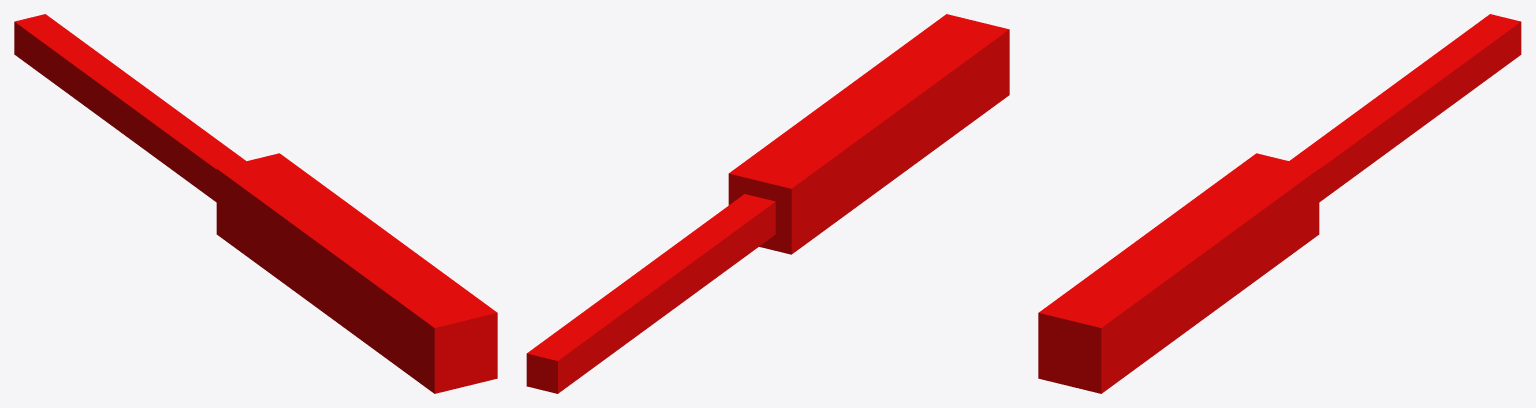
File: stickSquare.obj
3 views of the same model, side by side, from view 1: azimuth 30°, elevation 25°; view 2: azimuth 150°, elevation 25°; view 3: azimuth 330°, elevation 25° (orthographic).
Parts seen in each view (by area): view 1: Mesh1 Model; view 2: Mesh1 Model; view 3: Mesh1 Model.
Part boxes in pixels (x1,y1,x2,y2): Mesh1 Model: (14, 14, 497, 393); Mesh1 Model: (526, 14, 1009, 393); Mesh1 Model: (1038, 14, 1521, 393).
Size of the model in its own units: 0.02 by 0.02 by 0.24.
